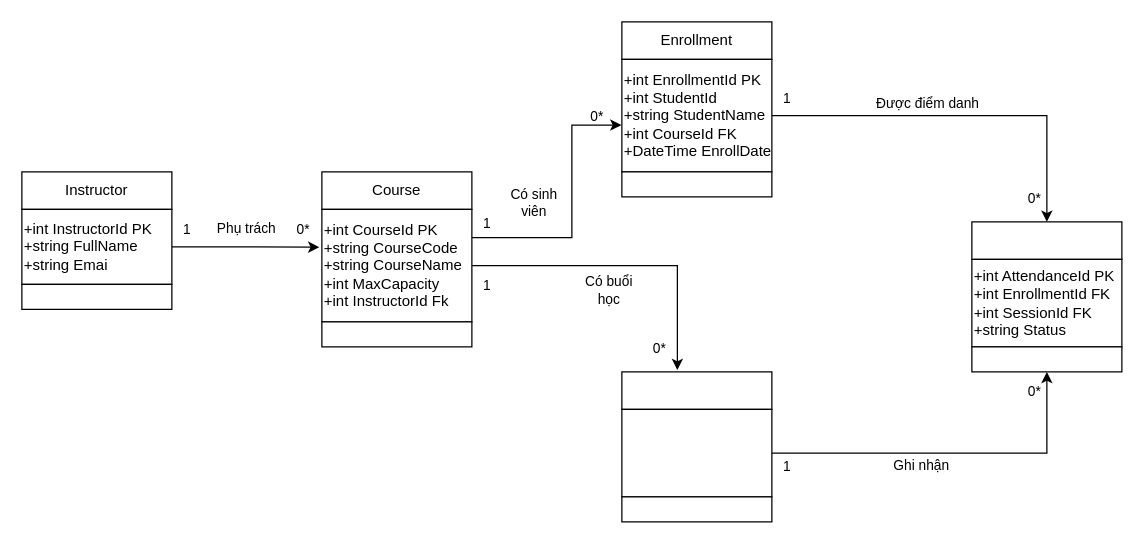
This 1144x544 diagram has some shape labels left out. The box of each missing label's shape, as (x1, y1, x2, y2) in pixels:
+int SessionId PK +int CourseId FK +Date SessionDate +string Topic: (621, 408, 772, 497)
Attendance: (971, 221, 1122, 259)
Session: (621, 371, 772, 409)
